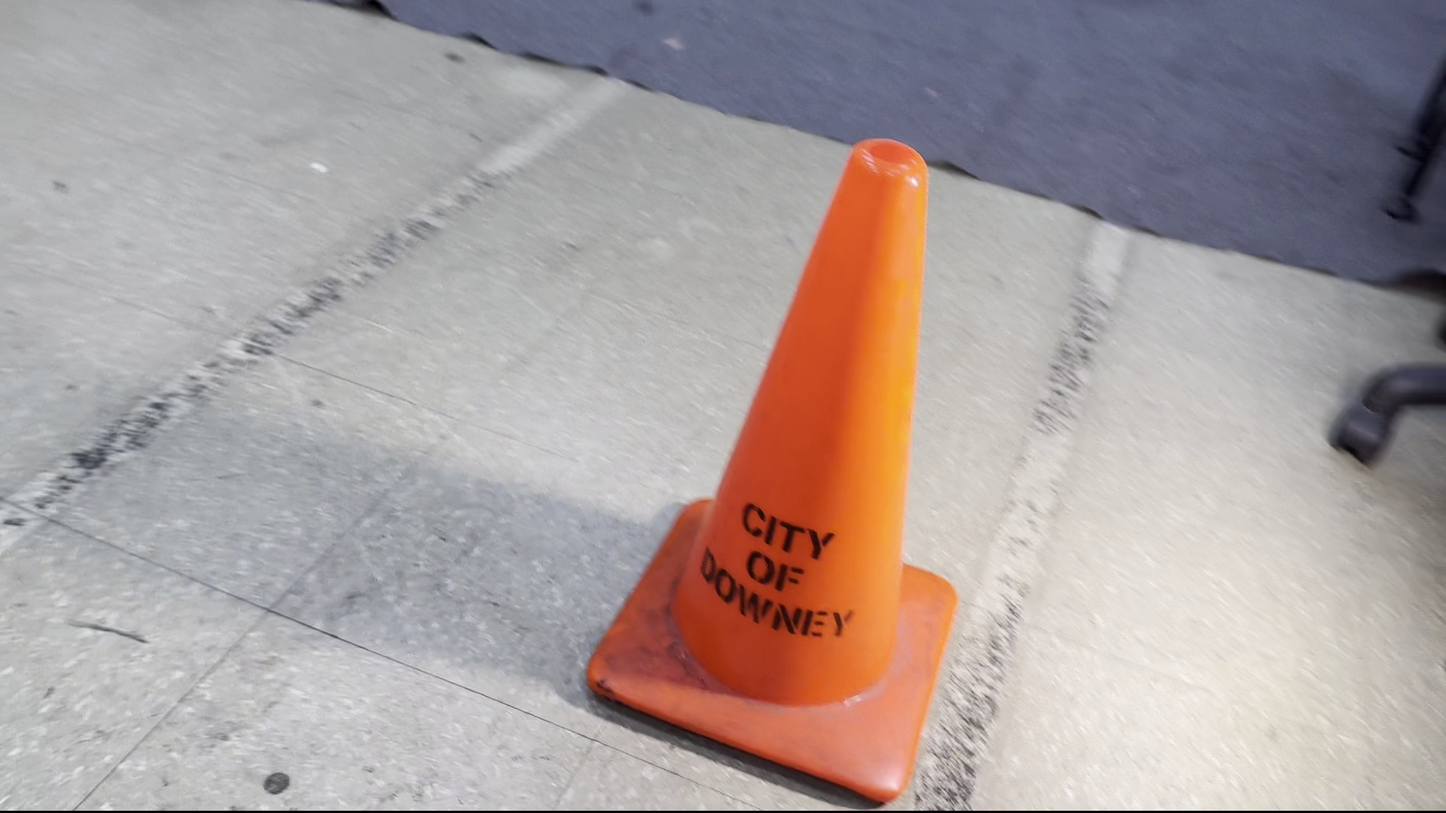traffic_cone: (584, 136, 959, 805)
